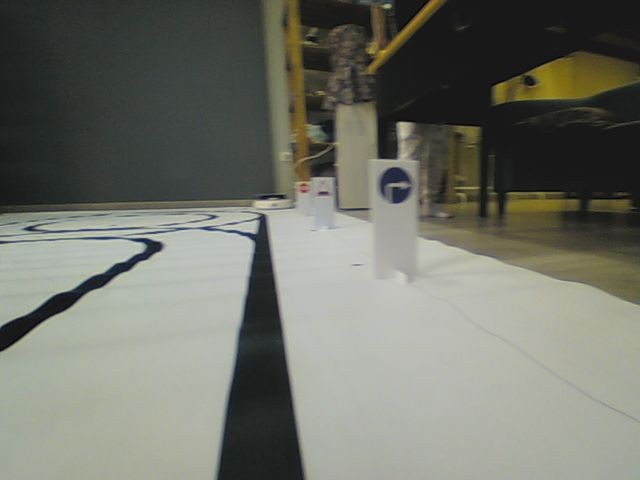Right: (376, 165, 413, 205)
